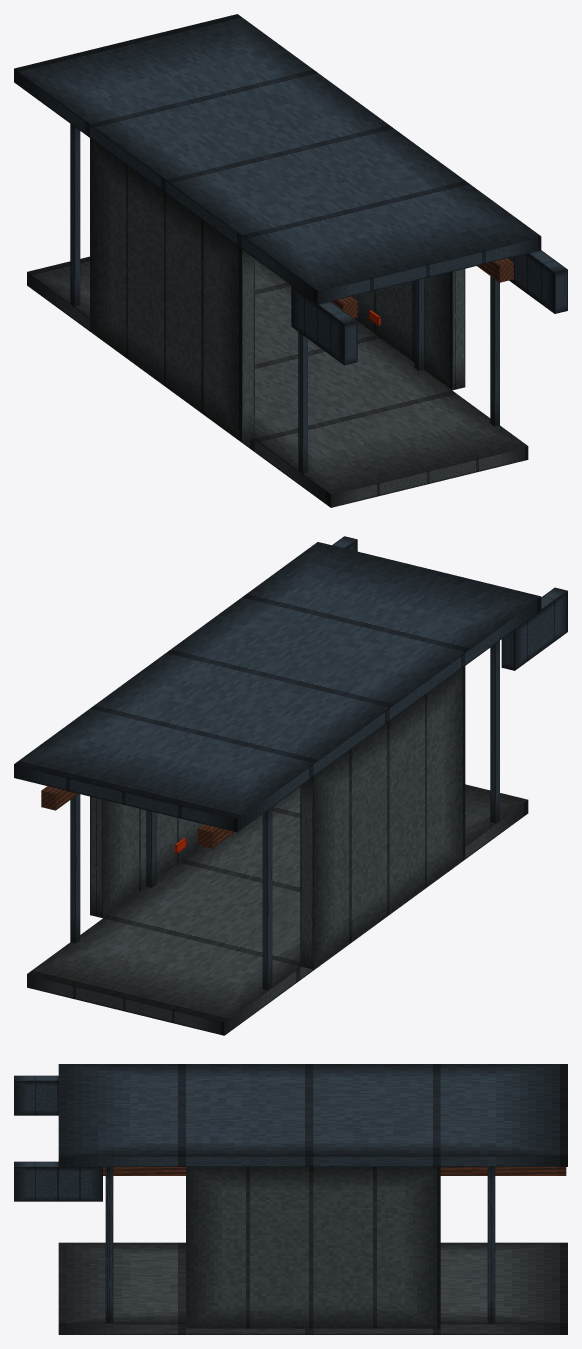
Rendered from corredor_2.obj.
3 views of the same model, one above another, from view 1: azimuth 30°, elevation 25°; view 2: azimuth 150°, elevation 25°; view 3: azimuth 270°, elevation 25° (orthographic). The views are drawn at different scales.
Bounding box in the file's own units: 3.4 × 3.2 × 8.7.
Materials: 6 (6 with a texture image).
